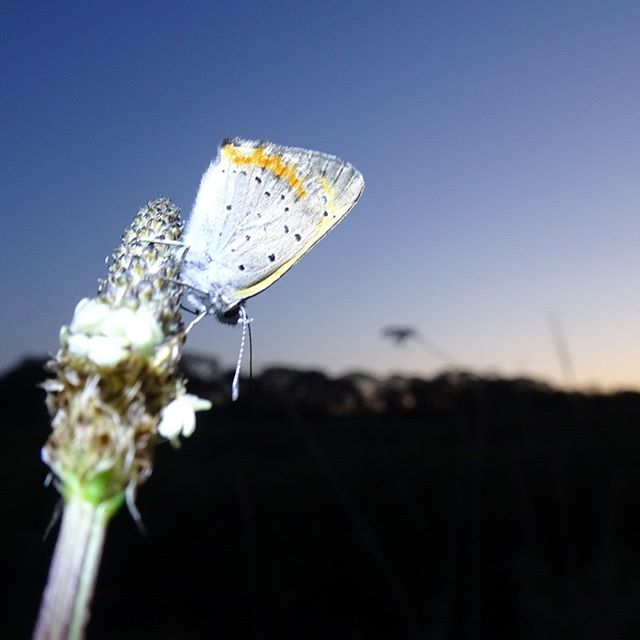insect: (132, 119, 398, 427)
sky: (1, 1, 637, 347)
